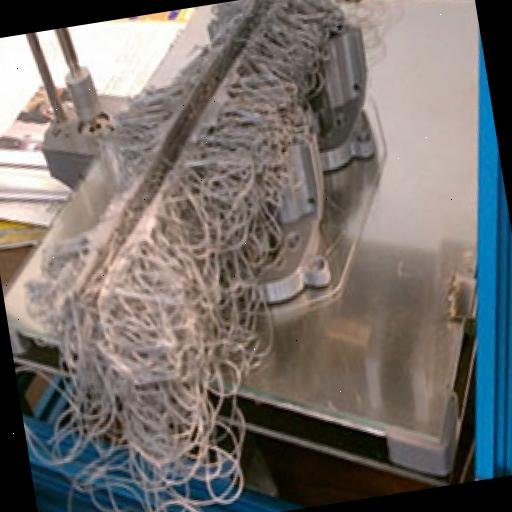spaghetti: (0, 0, 411, 512)
